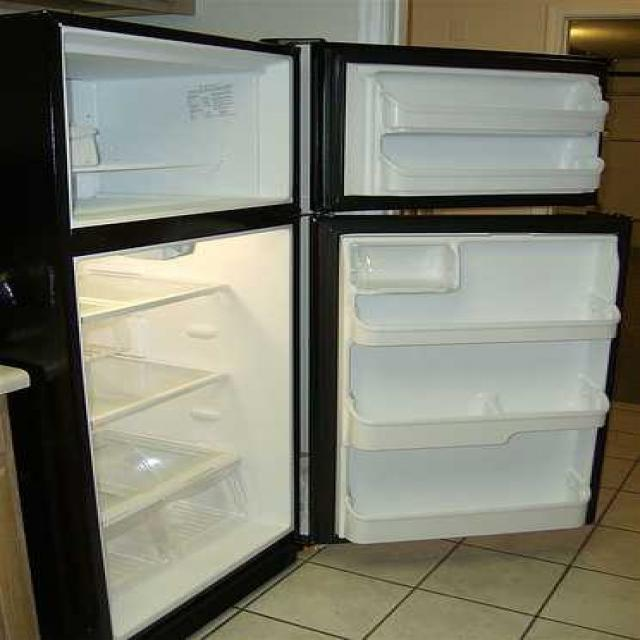refrigerator: (39, 6, 620, 611)
